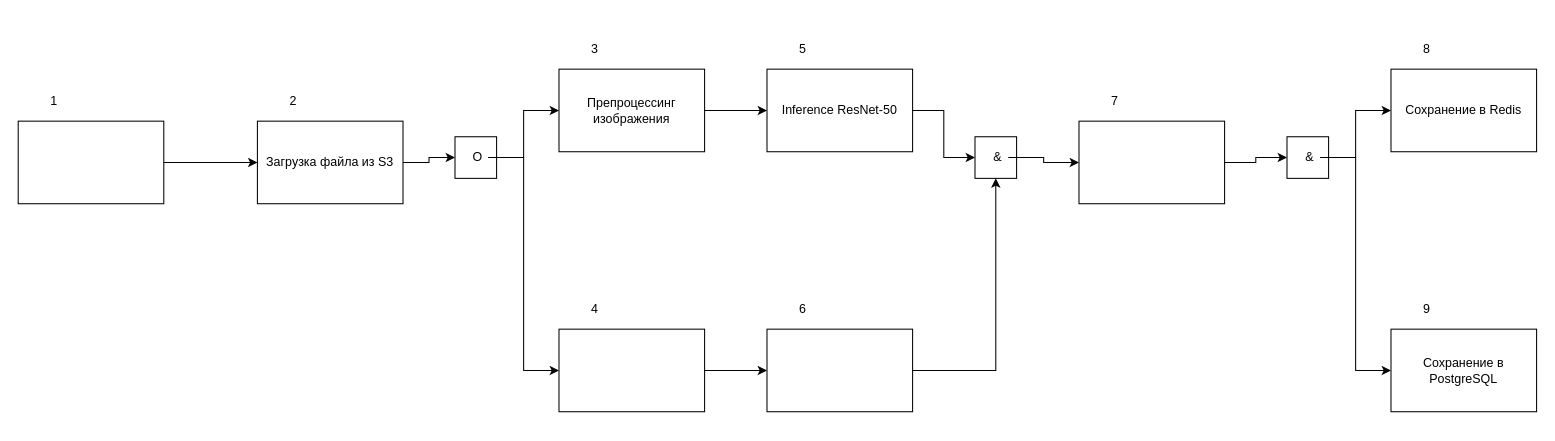
Some shapes in this 1555 by 441 pixel diagram are drawn without their labels. Each missing label, with the centre of its shape:
"Inference BERT" belongs at point (839, 370).
"Агрегация результатов" belongs at point (1151, 162).
"Получение сообщения из RabbitMQ" belongs at point (90, 162).
"Препроцессинг текста" belongs at point (631, 370).
